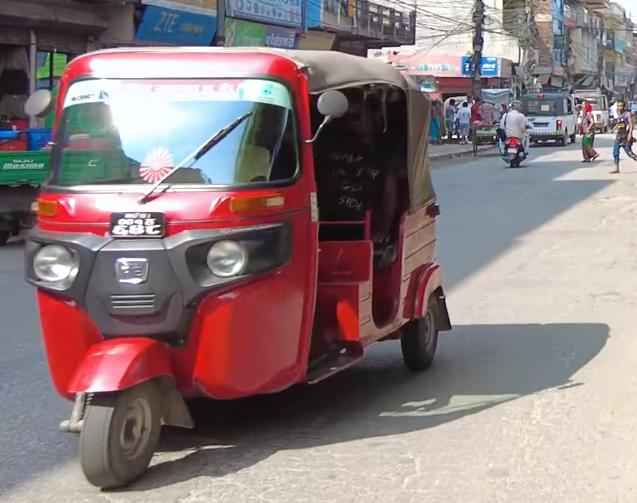auto_rickshaw: (14, 43, 454, 496)
